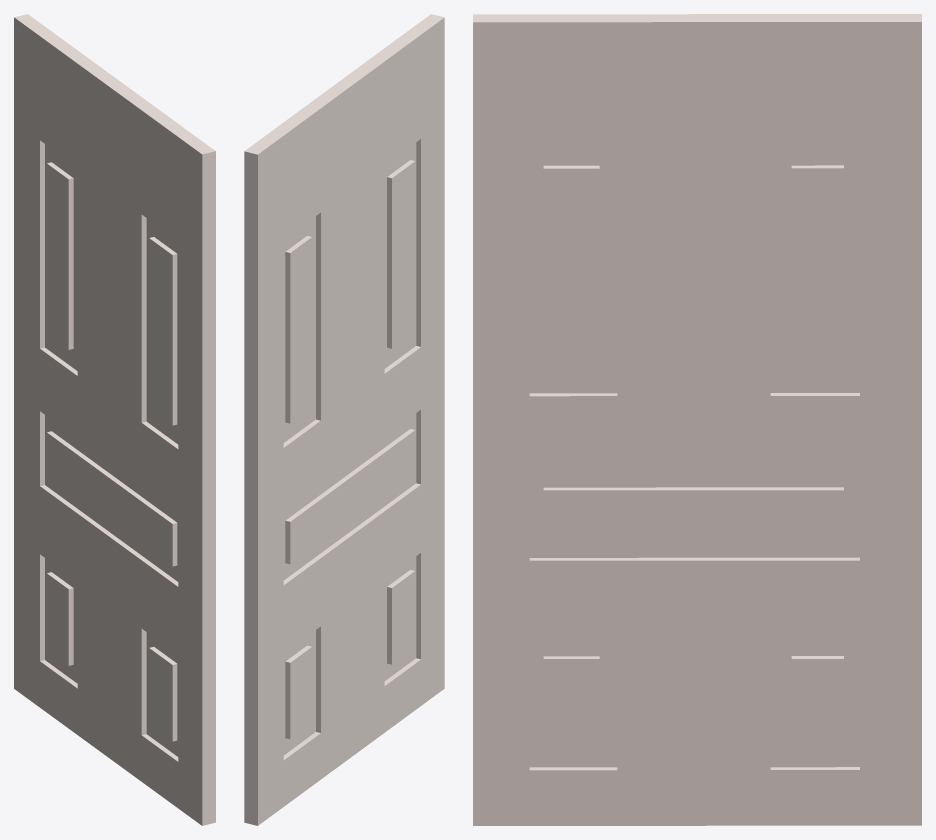
File: Door.fbx
The picture shows the model from 3 angles, left to right: view 1: azimuth 30°, elevation 25°; view 2: azimuth 150°, elevation 25°; view 3: azimuth 270°, elevation 25°; orthographic projection. The views are drawn at different scales.
Visible parts, largest first — view 1: DoorBedRoom_OBJ3; view 2: DoorBedRoom_OBJ3; view 3: DoorBedRoom_OBJ3.
Boxes of the visible parts, x1,y1,x2,y2 form: DoorBedRoom_OBJ3: (14,14,215,825); DoorBedRoom_OBJ3: (244,14,444,825); DoorBedRoom_OBJ3: (473,14,921,825).
Bounding box in the file's own units: 5.2 × 235 × 119.
Materials: 1 (1 with a texture image).
